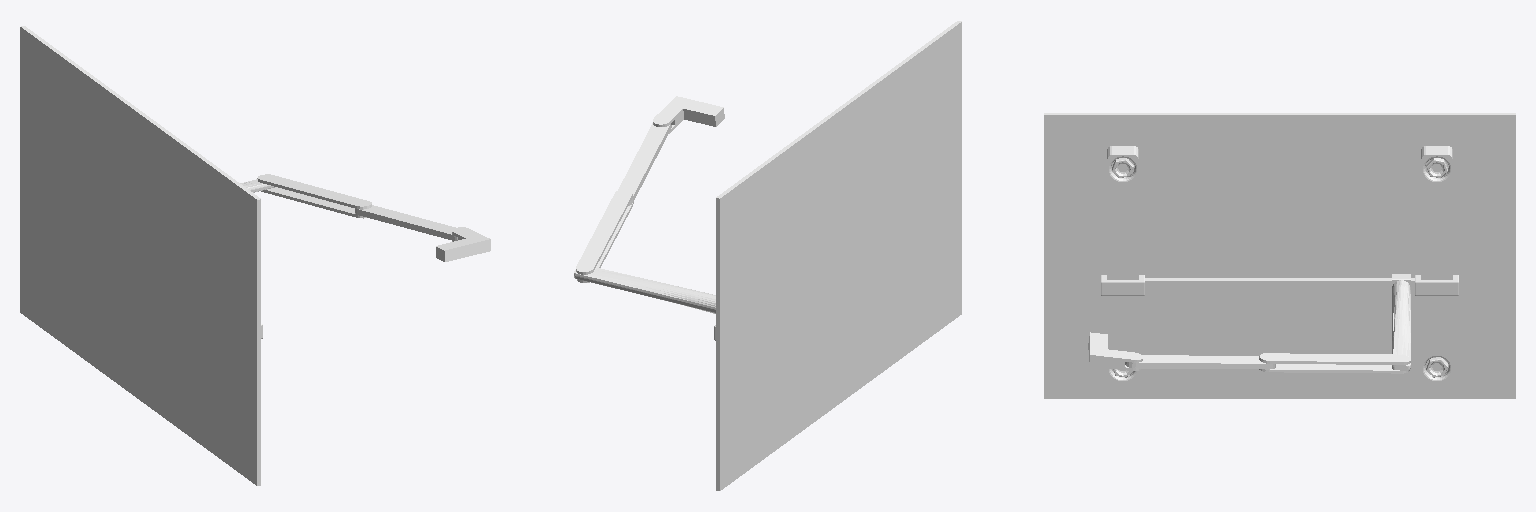
URDF robot description (robot):
<?xml version="1.0" encoding="utf-8"?>
<!-- This URDF was automatically created by SolidWorks to URDF Exporter! Originally created by [author] ([email redacted]) 
     Commit Version: 1.6.0-4-g7f85cfe  Build Version: 1.6.7995.38578
     For more information, please see http://wiki.ros.org/sw_urdf_exporter -->
<robot
  name="robot">
  <link
    name="base_link">
    <inertial>
      <origin
        xyz="0.28868742442495 1.44805433774299 -0.0402233450418269"
        rpy="0 0 0" />
      <mass
        value="23.3878159132999" />
      <inertia
        ixx="6.42514922450971"
        ixy="-2.19749690377613E-16"
        ixz="1.02478845664697E-16"
        iyy="1.98700916020424"
        iyz="5.62265918604536E-10"
        izz="4.4441181284017" />
    </inertial>
    <visual>
      <origin
        xyz="0 0 0"
        rpy="0 0 0" />
      <geometry>
        <mesh
          filename="package://robot/meshes/base_link.STL" />
      </geometry>
      <material
        name="">
        <color
          rgba="1 1 1 1" />
      </material>
    </visual>
    <collision>
      <origin
        xyz="0 0 0"
        rpy="0 0 0" />
      <geometry>
        <mesh
          filename="package://robot/meshes/base_link.STL" />
      </geometry>
    </collision>
  </link>
  <link
    name="v">
    <inertial>
      <origin
        xyz="0.0337455704948449 -0.00999999999999988 0"
        rpy="0 0 0" />
      <mass
        value="9.20530737736013" />
      <inertia
        ixx="0.470911965660408"
        ixy="-9.67307589726037E-19"
        ixz="2.84975407375212E-19"
        iyy="0.0122067836321299"
        iyz="-7.38989331731531E-17"
        izz="0.466973961489154" />
    </inertial>
    <visual>
      <origin
        xyz="0 0 0"
        rpy="0 0 0" />
      <geometry>
        <mesh
          filename="package://robot/meshes/v.STL" />
      </geometry>
      <material
        name="">
        <color
          rgba="1 1 1 1" />
      </material>
    </visual>
    <collision>
      <origin
        xyz="0 0 0"
        rpy="0 0 0" />
      <geometry>
        <mesh
          filename="package://robot/meshes/v.STL" />
      </geometry>
    </collision>
  </link>
  <joint
    name="v"
    type="fixed">
    <origin
      xyz="0.314391039627408 1.44805433774299 -0.0302233450418268"
      rpy="1.5707963267949 0 0" />
    <parent
      link="base_link" />
    <child
      link="v" />
    <axis
      xyz="0 0 0" />
  </joint>
  <link
    name="h">
    <inertial>
      <origin
        xyz="0.430000000000001 0.00104386561702341 0.0250000000001606"
        rpy="0 0 0" />
      <mass
        value="1.20404538970621" />
      <inertia
        ixx="0.000392533091920462"
        ixy="4.69217332462954E-18"
        ixz="1.27363876203556E-08"
        iyy="0.172653021241885"
        iyz="-2.22720298348333E-19"
        izz="0.172649729074278" />
    </inertial>
    <visual>
      <origin
        xyz="0 0 0"
        rpy="0 0 0" />
      <geometry>
        <mesh
          filename="package://robot/meshes/h.STL" />
      </geometry>
      <material
        name="">
        <color
          rgba="1 1 1 1" />
      </material>
    </visual>
    <collision>
      <origin
        xyz="0 0 0"
        rpy="0 0 0" />
      <geometry>
        <mesh
          filename="package://robot/meshes/h.STL" />
      </geometry>
    </collision>
  </link>
  <joint
    name="h"
    type="prismatic">
    <origin
      xyz="0.0624999999999986 -0.0462005689729977 0.43"
      rpy="1.5707963267949 1.5707963267949 0" />
    <parent
      link="v" />
    <child
      link="h" />
    <axis
      xyz="0 0 1" />
    <limit
      lower="-0.3202"
      upper="0.2278"
      effort="0"
      velocity="0" />
  </joint>
  <link
    name="base">
    <inertial>
      <origin
        xyz="0.0299999999999998 0.005462962962963 -0.00201846884051221"
        rpy="0 0 0" />
      <mass
        value="0.122887911388917" />
      <inertia
        ixx="8.08558410388411E-05"
        ixy="-5.38824986379029E-13"
        ixz="-9.25019774243767E-20"
        iyy="7.28213386278354E-05"
        iyz="3.21829894470866E-20"
        izz="7.17038365501508E-05" />
    </inertial>
    <visual>
      <origin
        xyz="0 0 0"
        rpy="0 0 0" />
      <geometry>
        <mesh
          filename="package://robot/meshes/base.STL" />
      </geometry>
      <material
        name="">
        <color
          rgba="1 1 1 1" />
      </material>
    </visual>
    <collision>
      <origin
        xyz="0 0 0"
        rpy="0 0 0" />
      <geometry>
        <mesh
          filename="package://robot/meshes/base.STL" />
      </geometry>
    </collision>
  </link>
  <joint
    name="b"
    type="prismatic">
    <origin
      xyz="0.786693625190159 0.0090740740740754 0.0304629629631233"
      rpy="-1.5707963267949 0 0" />
    <parent
      link="h" />
    <child
      link="base" />
    <axis
      xyz="1 0 0" />
    <limit
      lower="-0.88669"
      upper="0.012306"
      effort="0"
      velocity="0" />
  </joint>
  <link
    name="p1">
    <inertial>
      <origin
        xyz="-0.251043490081928 -0.000464975447103555 1.45508950444295E-08"
        rpy="0 0 0" />
      <mass
        value="1.13971656121822" />
      <inertia
        ixx="0.000432514158950848"
        ixy="-2.96751620309246E-05"
        ixz="3.48820471697827E-09"
        iyy="0.0298367965148194"
        iyz="-1.09120578328445E-09"
        izz="0.0299694646418855" />
    </inertial>
    <visual>
      <origin
        xyz="0 0 0"
        rpy="0 0 0" />
      <geometry>
        <mesh
          filename="package://robot/meshes/p1.STL" />
      </geometry>
      <material
        name="">
        <color
          rgba="1 1 1 1" />
      </material>
    </visual>
    <collision>
      <origin
        xyz="0 0 0"
        rpy="0 0 0" />
      <geometry>
        <mesh
          filename="package://robot/meshes/p1.STL" />
      </geometry>
    </collision>
  </link>
  <joint
    name="p1"
    type="continuous">
    <origin
      xyz="0.0300000000000005 0.00546296296296789 0.0159259259259247"
      rpy="1.69844635565354 1.5707963267949 0" />
    <parent
      link="base" />
    <child
      link="p1" />
    <axis
      xyz="1 0 0" />
  </joint>
  <link
    name="p2">
    <inertial>
      <origin
        xyz="-4.71844785465692E-15 -1.65423230669148E-14 0.221715000000003"
        rpy="0 0 0" />
      <mass
        value="0.580514506690596" />
      <inertia
        ixx="0.0125224058122683"
        ixy="-2.16840434497101E-19"
        ixz="-5.60159828678214E-17"
        iyy="0.012506656553382"
        iyz="-6.067466407772E-17"
        izz="0.000275346295122351" />
    </inertial>
    <visual>
      <origin
        xyz="0 0 0"
        rpy="0 0 0" />
      <geometry>
        <mesh
          filename="package://robot/meshes/p2.STL" />
      </geometry>
      <material
        name="">
        <color
          rgba="1 1 1 1" />
      </material>
    </visual>
    <collision>
      <origin
        xyz="0 0 0"
        rpy="0 0 0" />
      <geometry>
        <mesh
          filename="package://robot/meshes/p2.STL" />
      </geometry>
    </collision>
  </link>
  <joint
    name="p2"
    type="revolute">
    <origin
      xyz="-0.568084800154274 0 0"
      rpy="-2.88843035194422 -1.57079630572147 -2.06988390055919" />
    <parent
      link="p1" />
    <child
      link="p2" />
    <axis
      xyz="1 0 0" />
    <limit
      lower="-4.0944"
      upper="1.4906"
      effort="0"
      velocity="0" />
  </joint>
  <link
    name="p3">
    <inertial>
      <origin
        xyz="-0.221710271897552 0.00144795031442091 -5.77315972805081E-15"
        rpy="0 0 0" />
      <mass
        value="0.523965838925978" />
      <inertia
        ixx="0.000160235547863617"
        ixy="6.17235408899563E-05"
        ixz="1.31696682639099E-17"
        iyy="0.00961094612835153"
        iyz="1.89735380184963E-19"
        izz="0.00973625062028675" />
    </inertial>
    <visual>
      <origin
        xyz="0 0 0"
        rpy="0 0 0" />
      <geometry>
        <mesh
          filename="package://robot/meshes/p3.STL" />
      </geometry>
      <material
        name="">
        <color
          rgba="1 1 1 1" />
      </material>
    </visual>
    <collision>
      <origin
        xyz="0 0 0"
        rpy="0 0 0" />
      <geometry>
        <mesh
          filename="package://robot/meshes/p3.STL" />
      </geometry>
    </collision>
  </link>
  <joint
    name="p3"
    type="revolute">
    <origin
      xyz="0 0 0.443430000000003"
      rpy="1.57079632679621 1.56753096223434 1.57079632679621" />
    <parent
      link="p2" />
    <child
      link="p3" />
    <axis
      xyz="0 0 1" />
    <limit
      lower="-2.78926143863038"
      upper="2.79579216775148"
      effort="0"
      velocity="0" />
  </joint>
  <link
    name="p4">
    <inertial>
      <origin
        xyz="5.49560397189452E-15 0.0871661241402411 -0.0372480271176578"
        rpy="0 0 0" />
      <mass
        value="0.583844311345297" />
      <inertia
        ixx="0.00244029530315811"
        ixy="2.39879730662418E-18"
        ixz="-1.84314369322536E-18"
        iyy="0.00147441209728121"
        iyz="0.000565725026276999"
        izz="0.00113021131852825" />
    </inertial>
    <visual>
      <origin
        xyz="0 0 0"
        rpy="0 0 0" />
      <geometry>
        <mesh
          filename="package://robot/meshes/p4.STL" />
      </geometry>
      <material
        name="">
        <color
          rgba="1 1 1 1" />
      </material>
    </visual>
    <collision>
      <origin
        xyz="0 0 0"
        rpy="0 0 0" />
      <geometry>
        <mesh
          filename="package://robot/meshes/p4.STL" />
      </geometry>
    </collision>
  </link>
  <joint
    name="p4"
    type="continuous">
    <origin
      xyz="-0.443420543795106 0.00289590062884193 0"
      rpy="-2.21293240401649 1.57079631189374 -0.408206025430802" />
    <parent
      link="p3" />
    <child
      link="p4" />
    <axis
      xyz="1 0 0" />
    <limit
      lower="-2"
      upper="2"
      effort="0"
      velocity="0" />
  </joint>
</robot>

--- What the picture shows (computed from the rendered views, not written in the file) ---
Views: 3 orthographic renders of the robot side by side, from view 1: azimuth 30°, elevation 25°; view 2: azimuth 150°, elevation 25°; view 3: azimuth 270°, elevation 25°.
Robot: robot — 8 links, 7 joints (2 revolute, 2 continuous, 2 prismatic, 1 fixed); root link base_link; default pose: every joint at zero.
Links seen in each view (by area): view 1: base_link, p2, p3, p4; view 2: base_link, p1, p2, p4, p3; view 3: base_link, v, h, p2, p3, p1, p4.
Boxes of the visible links, <box> form: base_link: <box>20,26,260,485</box>; p2: <box>257,174,371,218</box>; p3: <box>355,205,457,240</box>; p4: <box>436,227,490,261</box>; base_link: <box>716,21,961,490</box>; p1: <box>574,268,715,313</box>; p2: <box>576,189,633,282</box>; p4: <box>653,96,724,133</box>; p3: <box>618,123,671,205</box>; base_link: <box>1044,113,1515,398</box>; v: <box>1107,146,1452,382</box>; h: <box>1101,275,1458,295</box>; p2: <box>1259,353,1410,373</box>; p3: <box>1125,355,1275,369</box>; p1: <box>1392,280,1410,370</box>; p4: <box>1088,332,1142,370</box>.
Size in the robot's own frame: 0.9374 by 1.5 by 1 metres.
8 mesh visuals loaded from 8 distinct referenced files (8 binary STL).